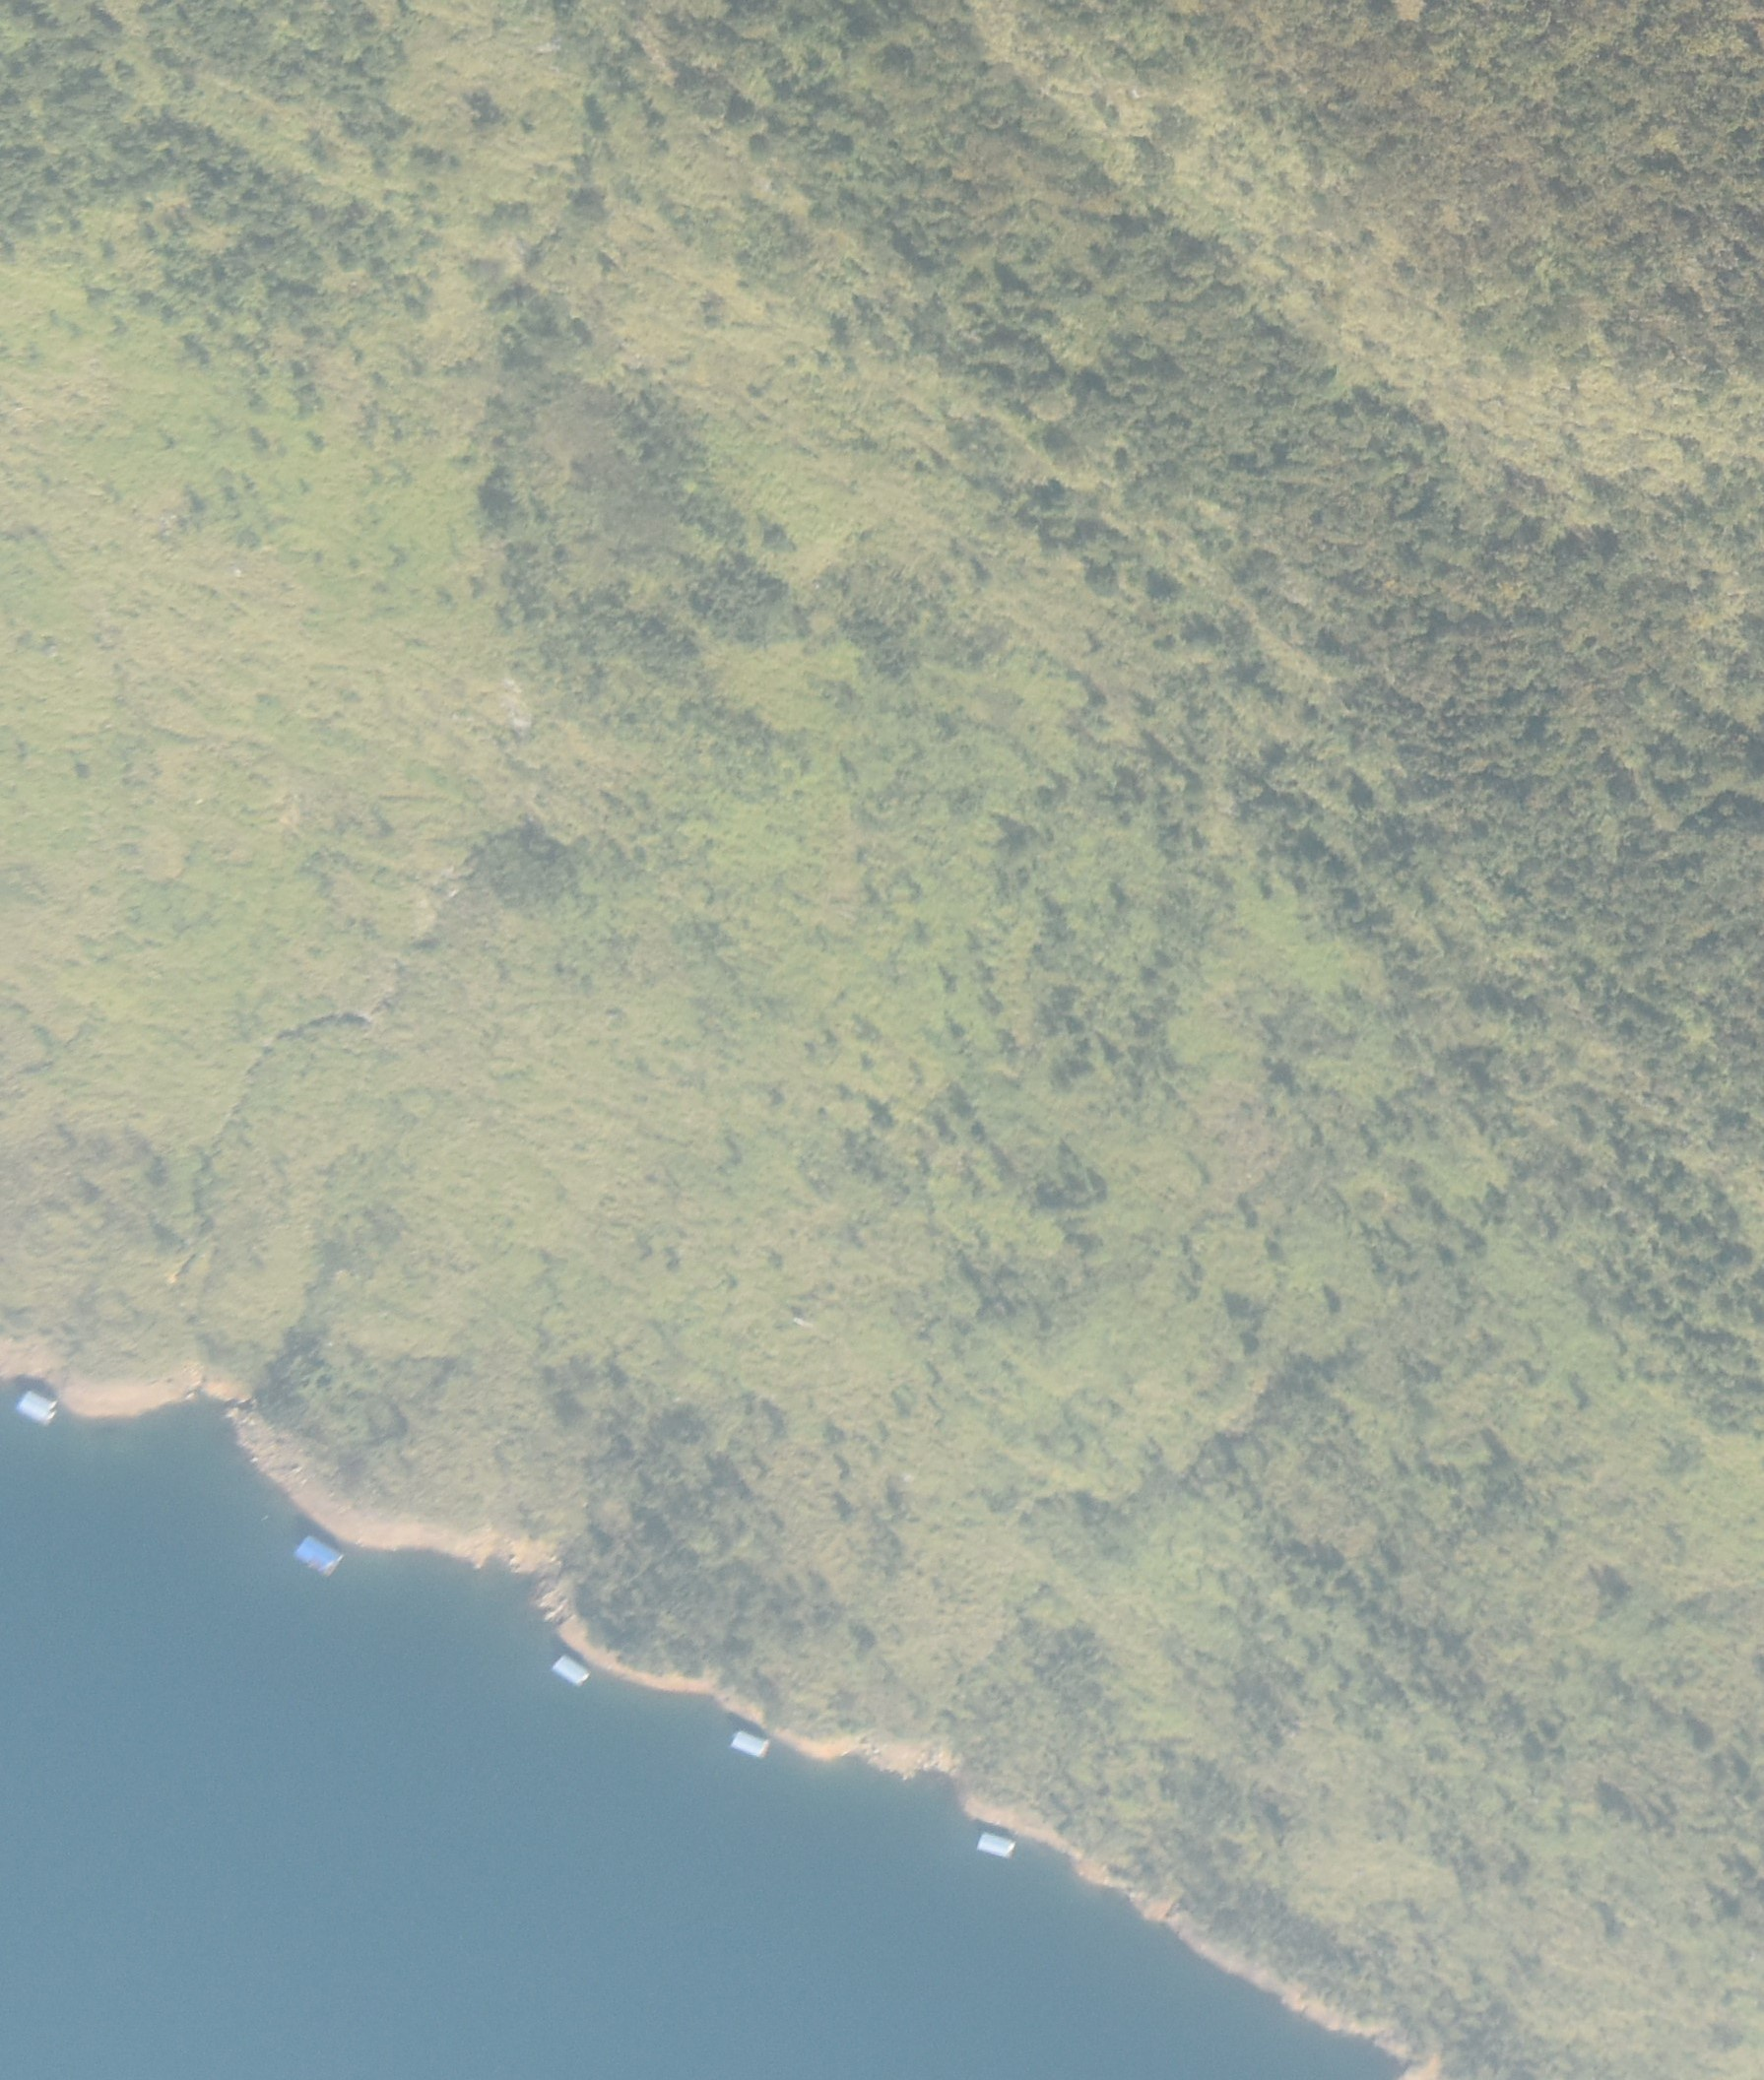prefabricated-house: (293, 1532, 344, 1575), (18, 1394, 58, 1426), (728, 1728, 768, 1761), (974, 1831, 1015, 1858), (553, 1654, 587, 1685)
